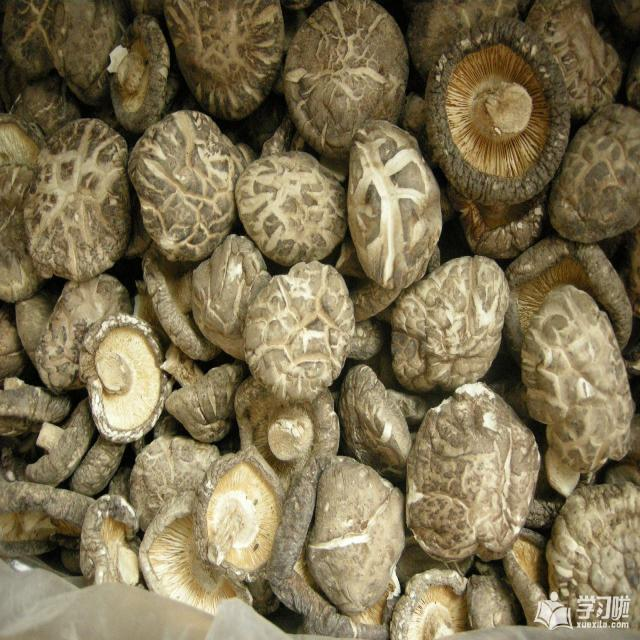Lentinus edodes: (427, 16, 571, 203), (408, 383, 541, 558), (23, 114, 138, 279), (283, 0, 408, 148), (533, 287, 631, 475), (128, 109, 246, 263), (346, 116, 443, 298), (390, 255, 511, 389), (244, 259, 356, 403), (167, 0, 288, 118), (143, 491, 258, 610), (237, 150, 346, 264), (196, 447, 285, 585), (82, 314, 165, 445), (110, 14, 172, 128), (82, 490, 141, 592), (392, 569, 466, 640)
